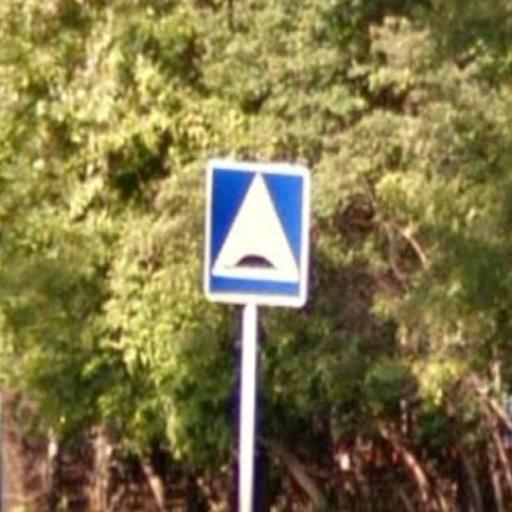traffic_sign: (205, 158, 313, 309)
